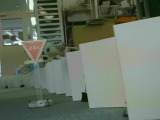stop: (18, 37, 47, 65)
